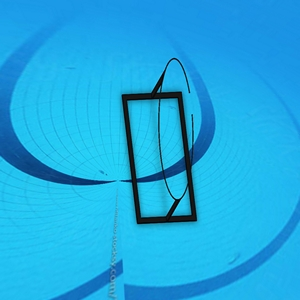circle: (120, 57, 207, 225)
